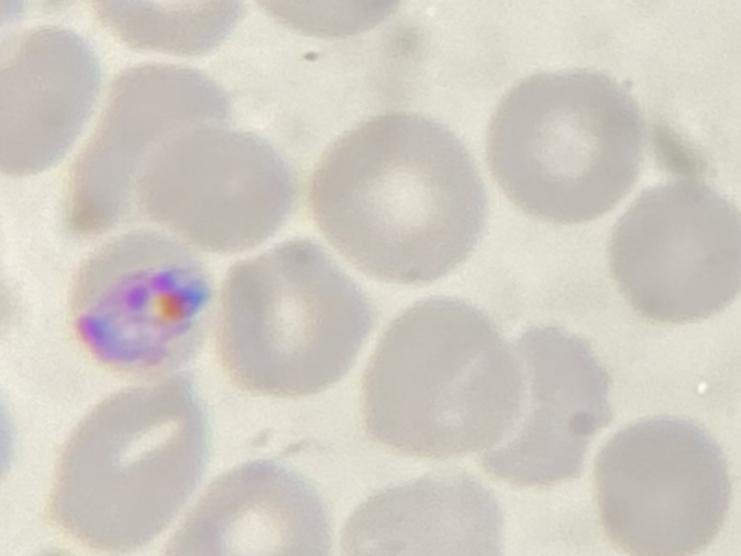Infected: (61, 226, 217, 384)
Uninfected: (306, 110, 493, 288), (366, 292, 542, 463), (54, 65, 230, 234), (490, 65, 651, 234), (227, 233, 387, 401), (41, 382, 201, 549), (471, 313, 609, 488), (591, 413, 741, 556), (139, 120, 299, 252), (603, 182, 741, 328), (0, 29, 105, 184), (167, 460, 324, 556)
